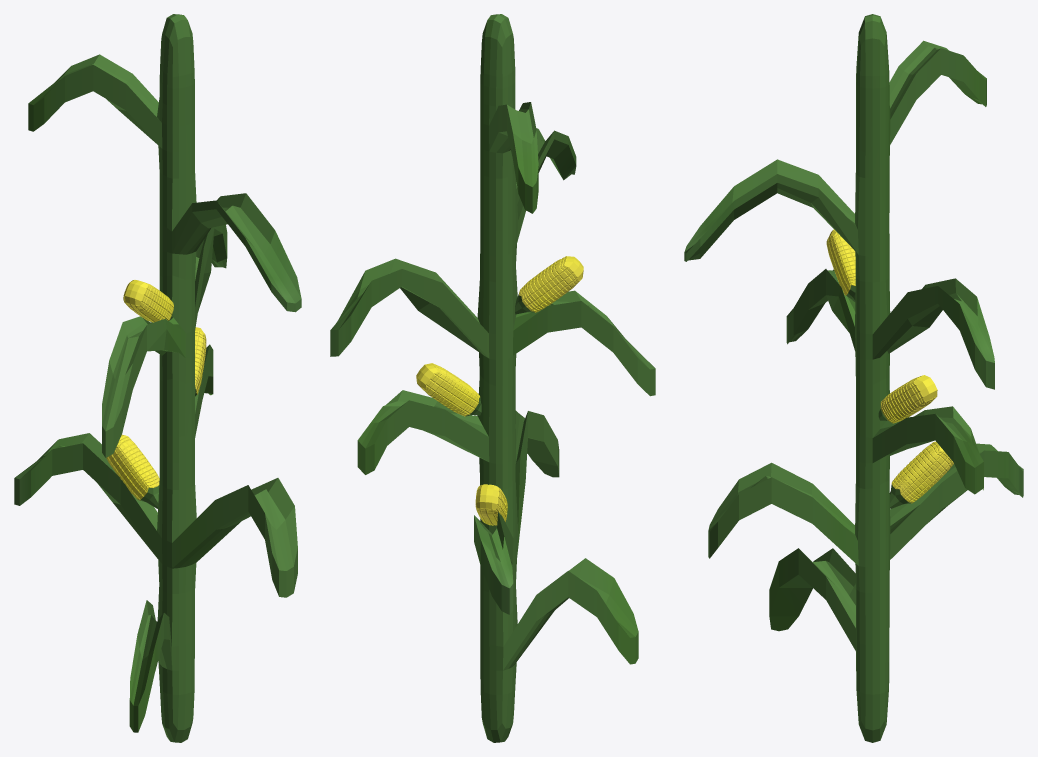
The model's file is SM_Crop_Corn_Stage_Grown.fbx.
The picture shows the model from 3 angles, left to right: view 1: azimuth 30°, elevation 25°; view 2: azimuth 150°, elevation 25°; view 3: azimuth 270°, elevation 25°; orthographic projection.
Visible parts, largest first — view 1: SM_Crop_Corn_ST2.001; view 2: SM_Crop_Corn_ST2.001; view 3: SM_Crop_Corn_ST2.001.
Boxes of the visible parts, box(x1,y1,x2,y2) form: SM_Crop_Corn_ST2.001: box(14, 14, 301, 742); SM_Crop_Corn_ST2.001: box(330, 14, 655, 742); SM_Crop_Corn_ST2.001: box(684, 14, 1023, 742).
Size of the model in its own units: 101 by 318 by 135.
1 material, 1 textured.
